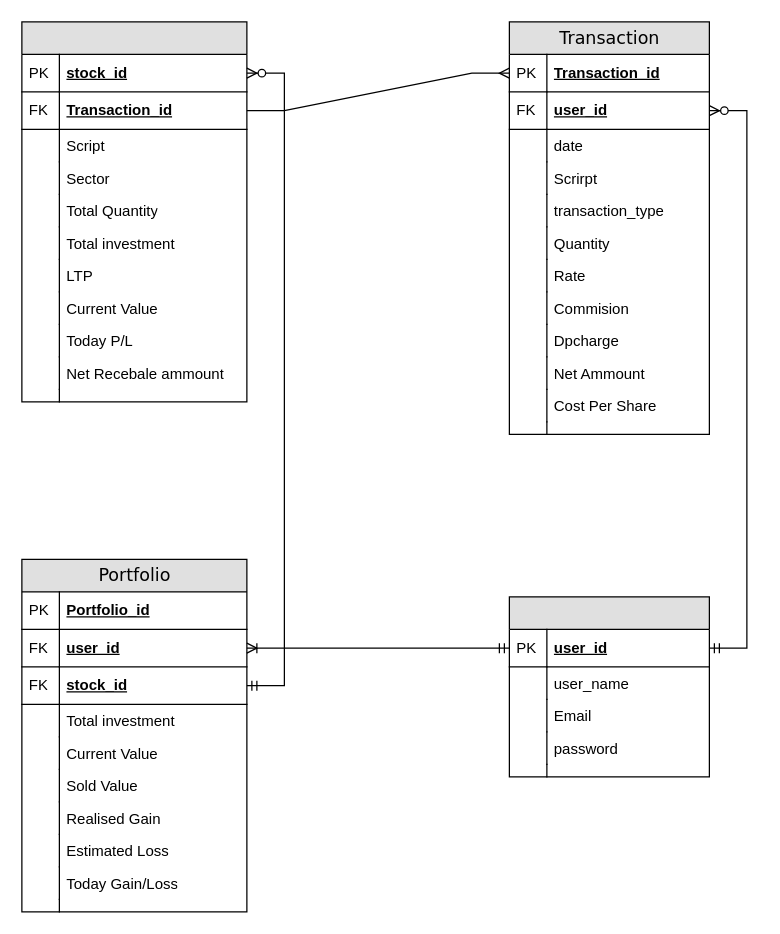
This 780x934 diagram has some shape labels left out. The shapes that lost their labels are listed below. From the top down, each one's box as (x1, y1, x2, y2) in pixels, then its label:
(21, 21, 247, 402): Holding
(508, 596, 709, 777): Users
